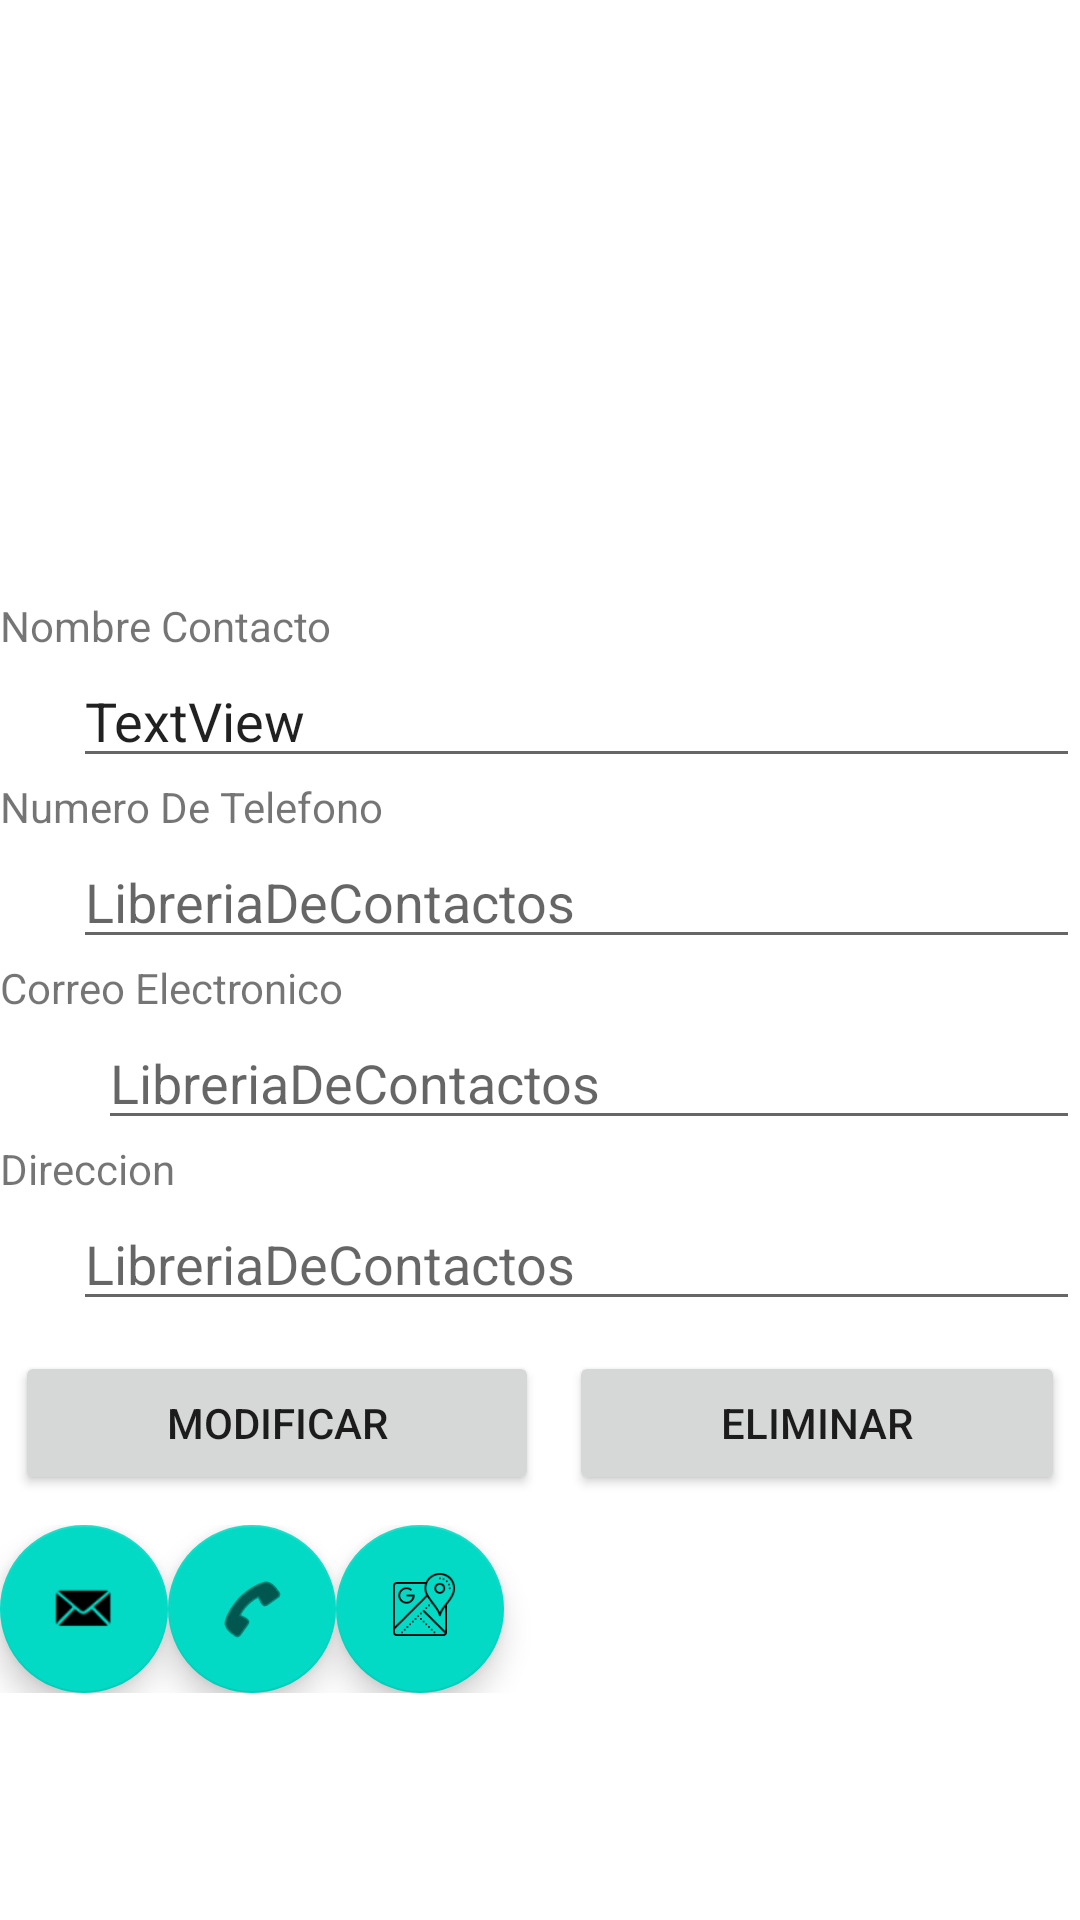

Screen size 1080w x 1920h. Icon name, then its box in pixels as detection(x1, y1, x2, y2):
call: detection(168, 1525, 336, 1693)
mapas de google: detection(336, 1525, 504, 1693)
sym action email: detection(0, 1525, 168, 1693)
